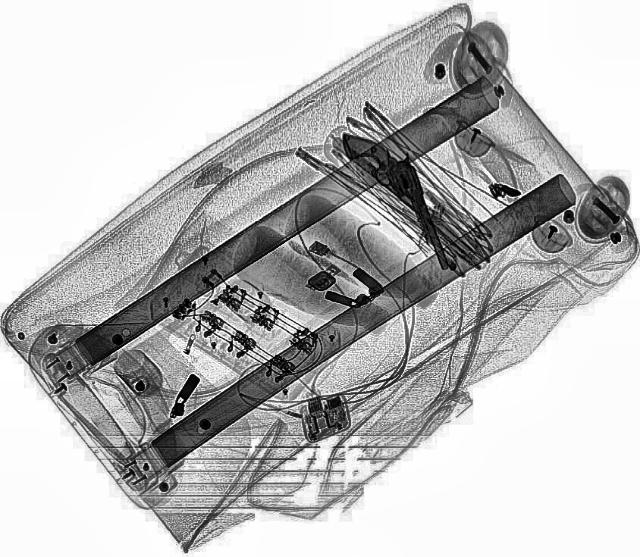Gun: (338, 122, 448, 280)
